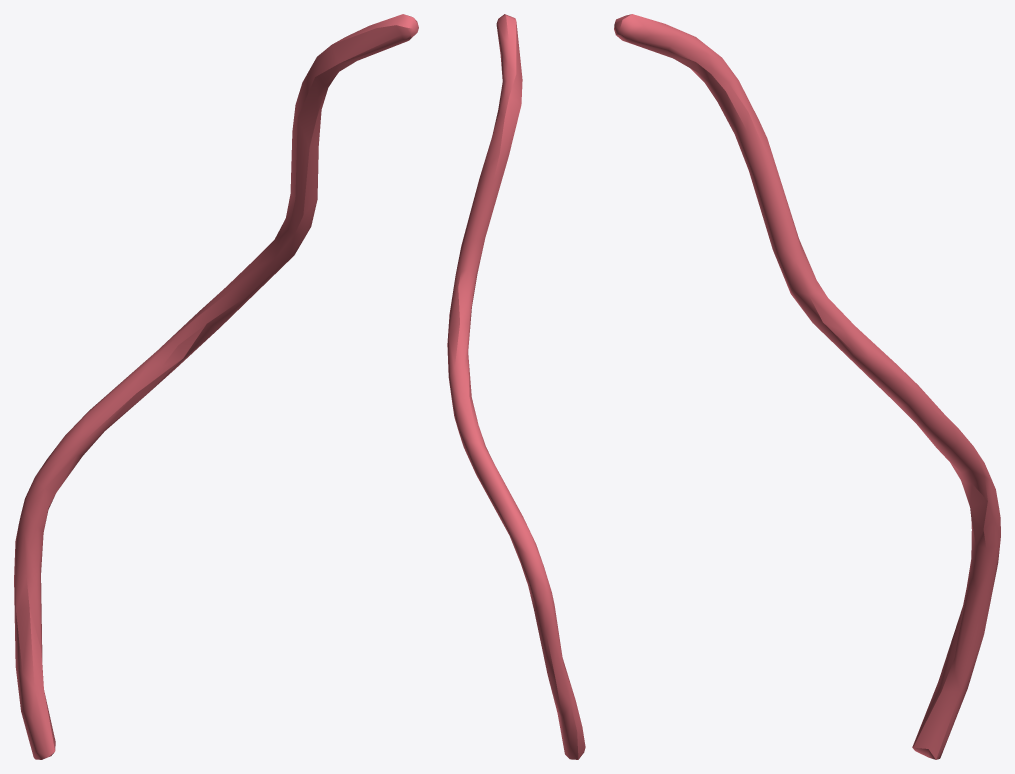
Rendered from fma15398_fj3655.glb.
3 views of the same model, side by side, from view 1: azimuth 30°, elevation 25°; view 2: azimuth 150°, elevation 25°; view 3: azimuth 270°, elevation 25° (orthographic). The views are drawn at different scales.
Parts seen in each view (by area): view 1: FMA15398_FJ3655; view 2: FMA15398_FJ3655; view 3: FMA15398_FJ3655.
Part boxes in pixels (<box>): FMA15398_FJ3655: <box>14,14,418,759</box>; FMA15398_FJ3655: <box>447,14,585,759</box>; FMA15398_FJ3655: <box>614,14,1000,759</box>.
Size of the model in its own units: 0.0184 by 0.0558 by 0.0226.
